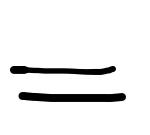eqv: (10, 66, 126, 102)
